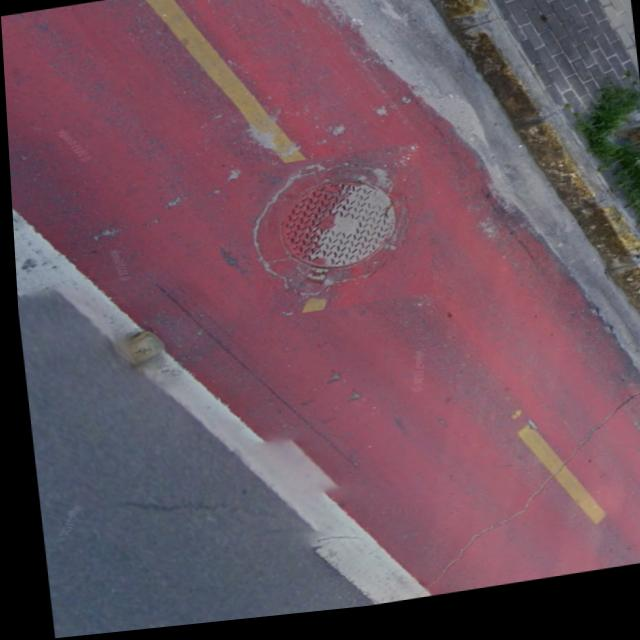Bueiro: (238, 151, 430, 326)
